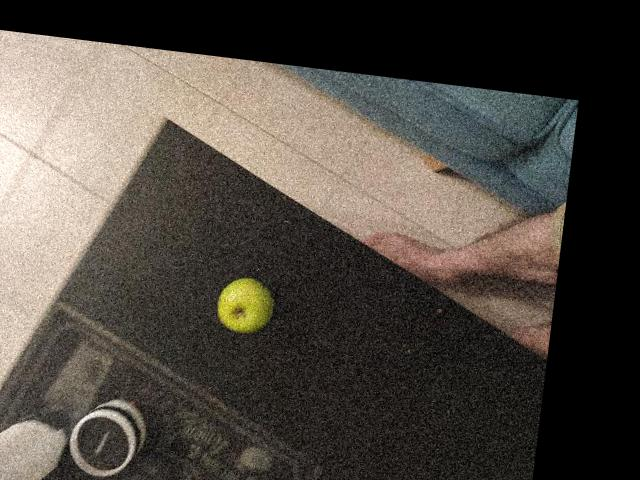apple: (128, 143, 222, 234)
